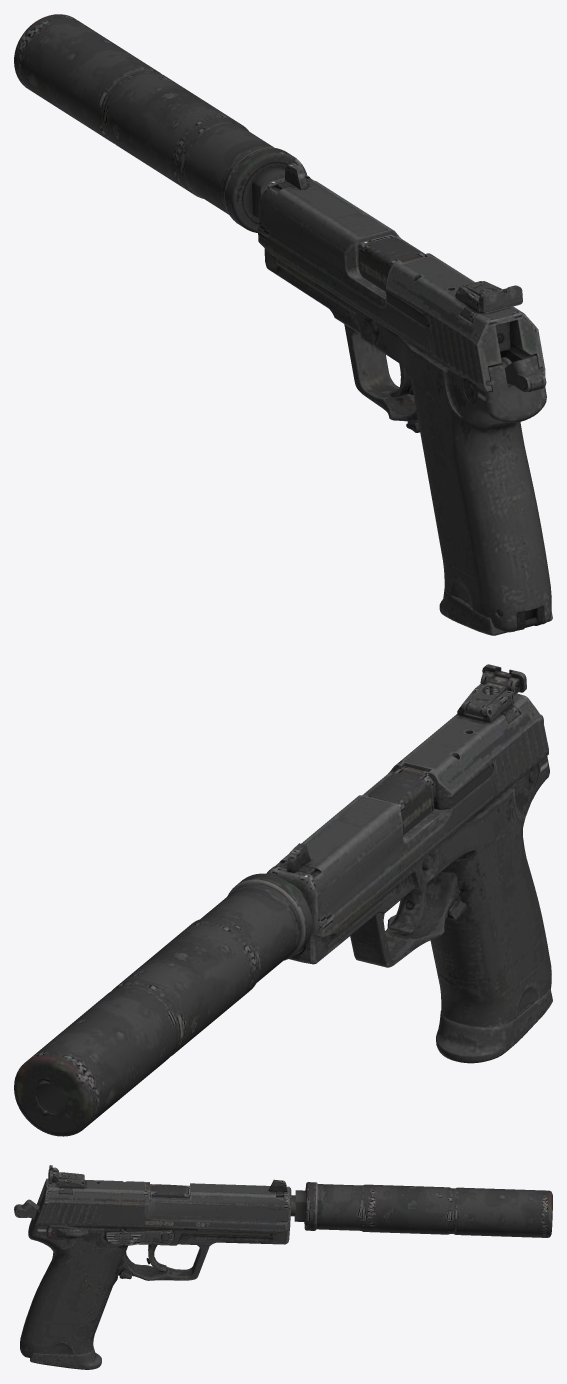
The model's file is p_usp.glb.
The picture shows the model from 3 angles, top to bottom: view 1: azimuth 30°, elevation 25°; view 2: azimuth 150°, elevation 25°; view 3: azimuth 270°, elevation 25°; orthographic projection. The views are drawn at different scales.
Parts seen in each view (by area): view 1: p_usp; view 2: p_usp; view 3: p_usp.
Boxes of the visible parts, left/top/right/bottom form: p_usp: left=14, top=14, right=552, bottom=635; p_usp: left=14, top=664, right=552, bottom=1136; p_usp: left=14, top=1165, right=552, bottom=1369.
Bounding box in the file's own units: 0.0644 × 0.222 × 0.5581.
1 material, 1 textured.
